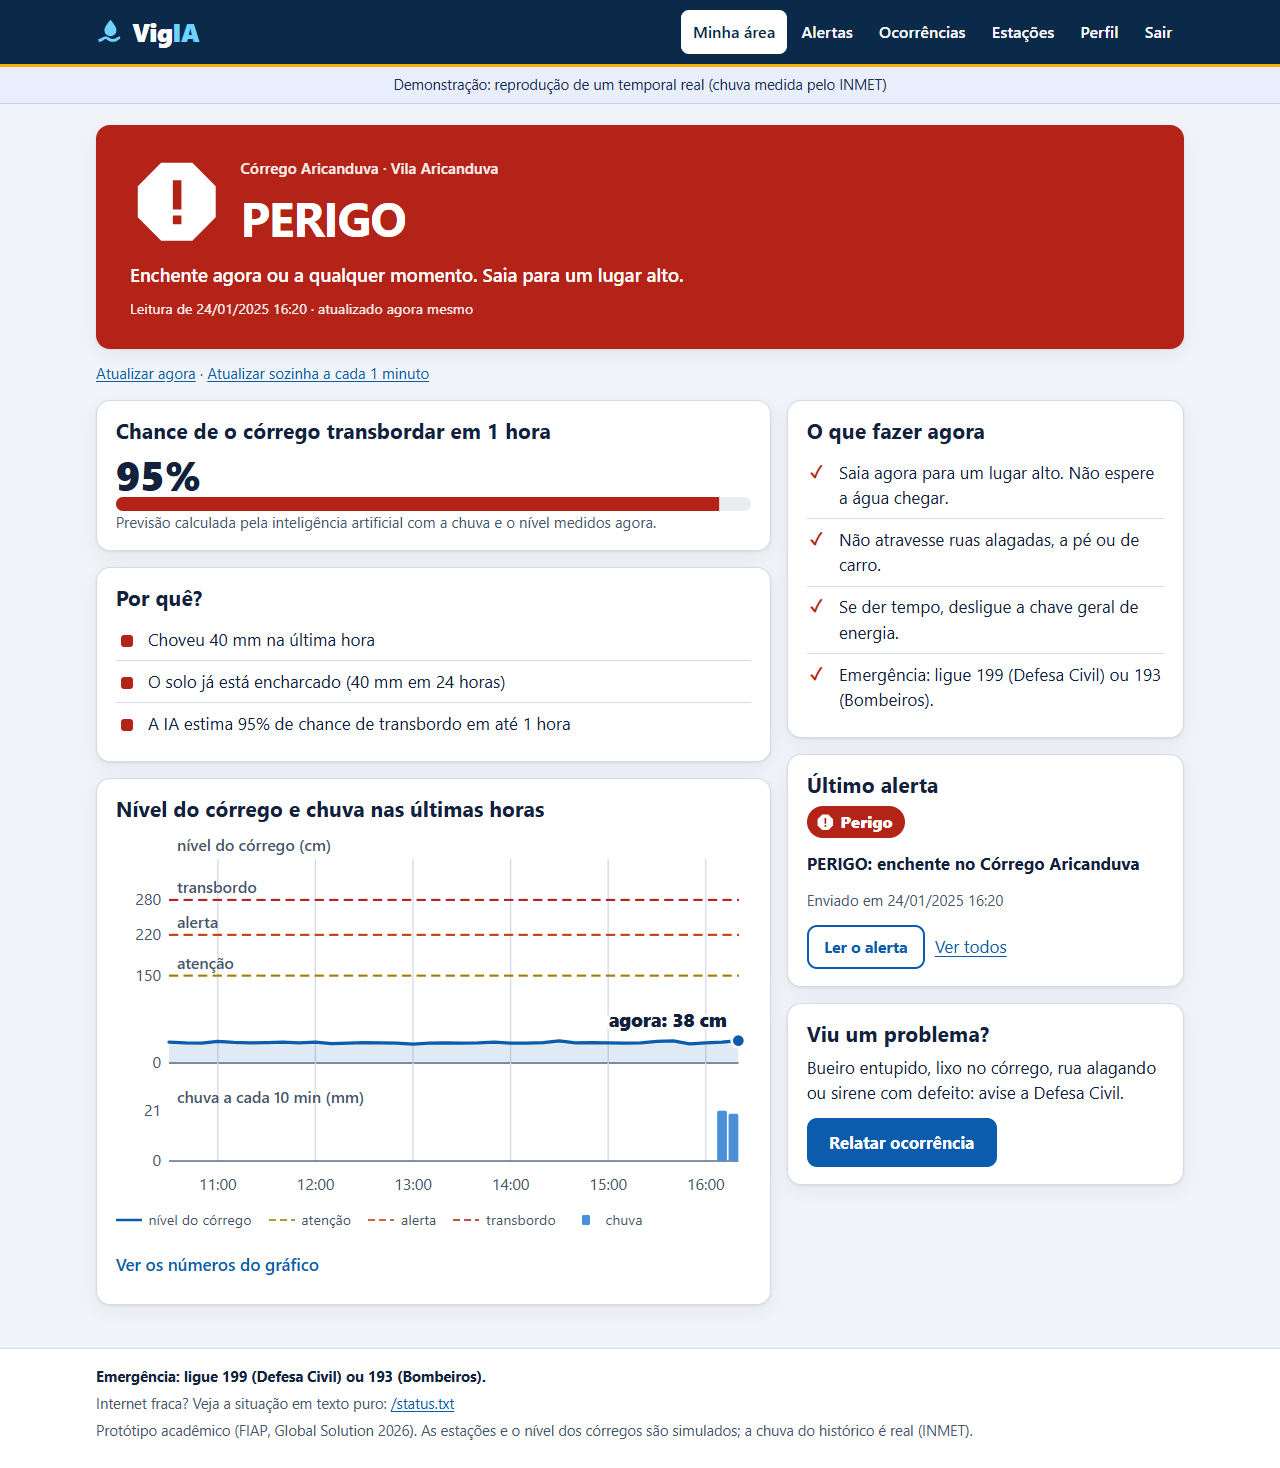

Layout of this report page (visuals, bound fields, positions):
{"tool":"powerbi","page":{"name":"Página 1","canvas":[1920,1080],"ordinal":0},"visuals":[{"type":"htmlContent443BE3AD55E043BF878BED274D3A6855","fields":{"content":["Medidas.VigIA Painel HTML"]},"box":[0,0,1920,1079.6],"z":0},{"type":"slicer","fields":{"Values":["dim_data.data"]},"box":[42.3,134.2,300.5,52.5],"z":1},{"type":"slicer","fields":{"Values":["dim_estacao.nome"]},"box":[367.7,137.1,356,52.5],"z":2}]}

Visuals, with their boxes on the page's 1920x1080 design canvas (x1, y1, x2, y2). These are canvas units, not pixel positions in the 1280x1468 screenshot, which may show the page scaled, cropped or inside an application window:
htmlContent443BE3AD55E043BF878BED274D3A6855 - Medidas.VigIA Painel HTML: [x1=0, y1=0, x2=1920, y2=1080]
slicer - dim_data.data: [x1=42, y1=134, x2=343, y2=187]
slicer - dim_estacao.nome: [x1=368, y1=137, x2=724, y2=190]
